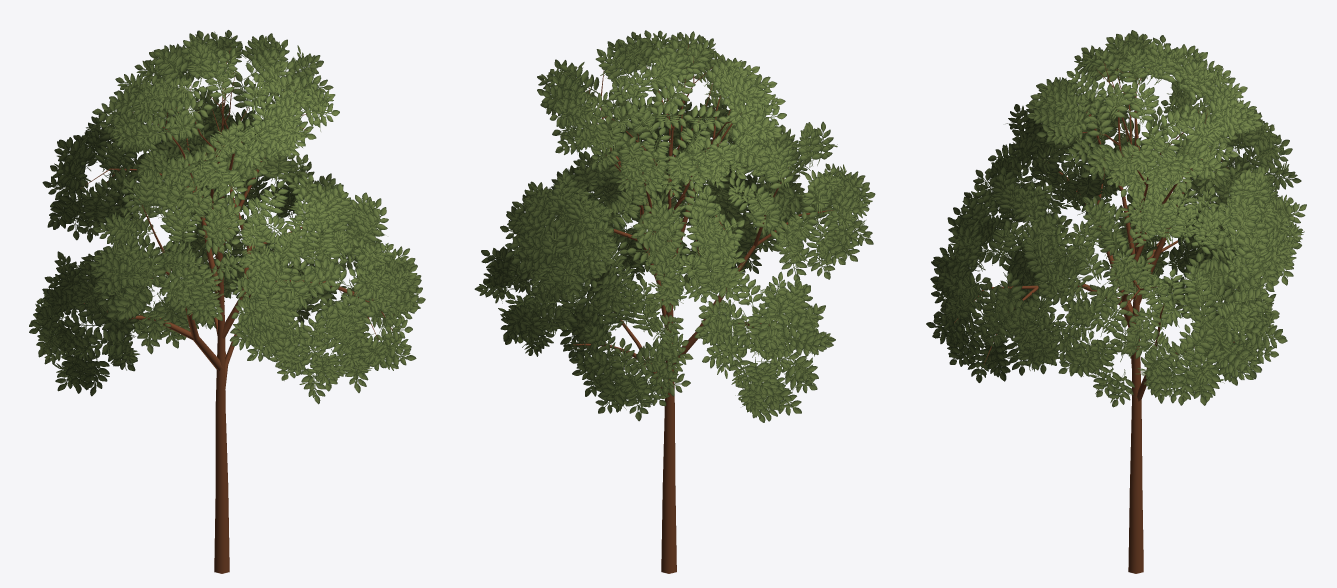
The model's file is Tree.fbx.
The picture shows the model from 3 angles, left to right: view 1: azimuth 30°, elevation 25°; view 2: azimuth 150°, elevation 25°; view 3: azimuth 270°, elevation 25°; orthographic projection.
Visible parts, largest first — view 1: Leaves, Trunk; view 2: Leaves, Trunk; view 3: Leaves, Trunk.
Part boxes in pixels (box(x1,y1,x2,y2)): Leaves: box(29, 30, 425, 404); Trunk: box(80, 48, 399, 573); Leaves: box(474, 30, 875, 422); Trunk: box(573, 44, 833, 573); Leaves: box(926, 30, 1306, 407); Trunk: box(954, 62, 1234, 573).
Bounding box in the file's own units: 413 × 625 × 431.
